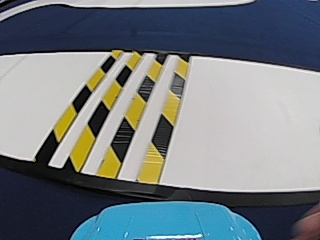bump: (35, 56, 191, 172)
